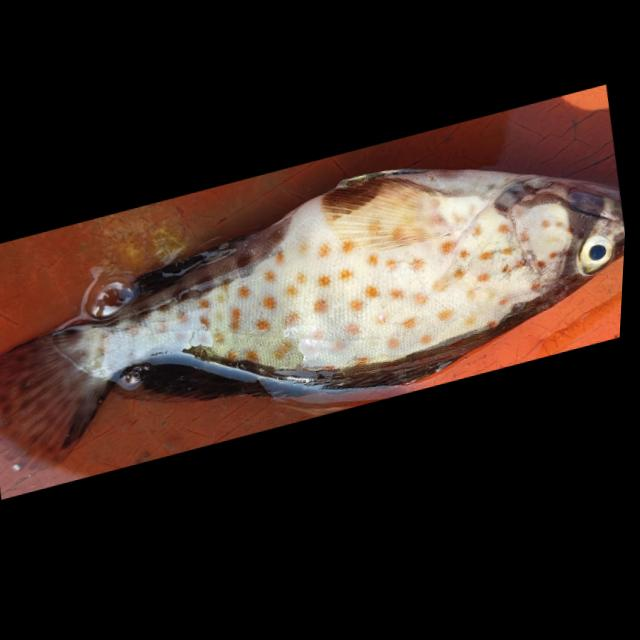Groupers: (0, 107, 631, 491)
